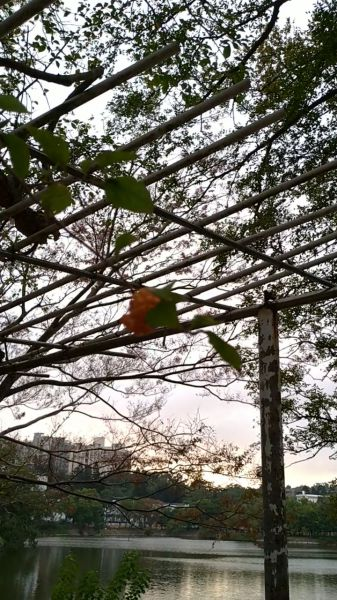eggs: (115, 283, 169, 343)
